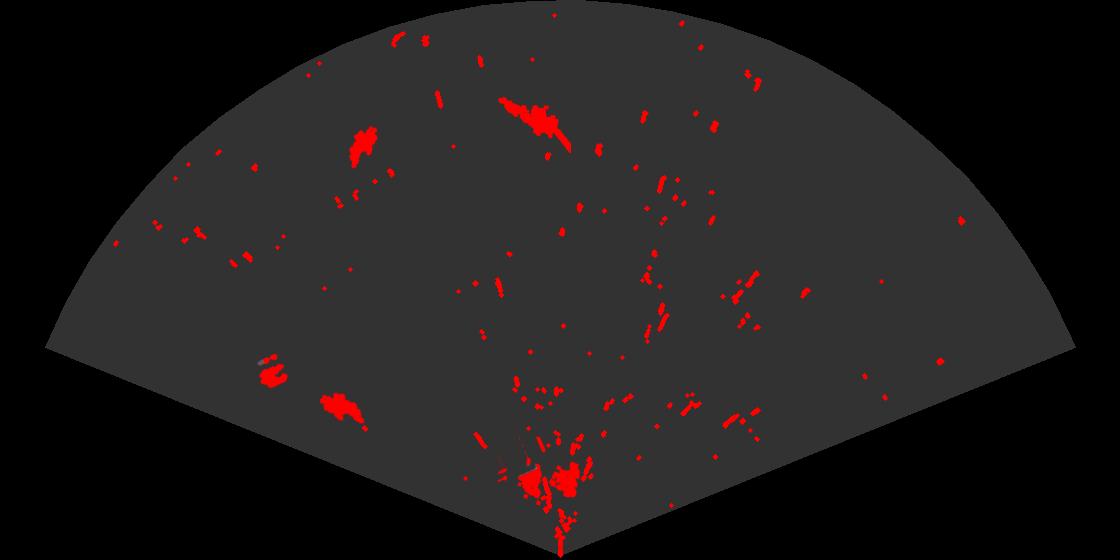AUV: (318, 391, 366, 425), (347, 124, 379, 170)
ball: (256, 352, 290, 390)
cage: (498, 437, 582, 507)
frogman: (497, 95, 571, 153)
